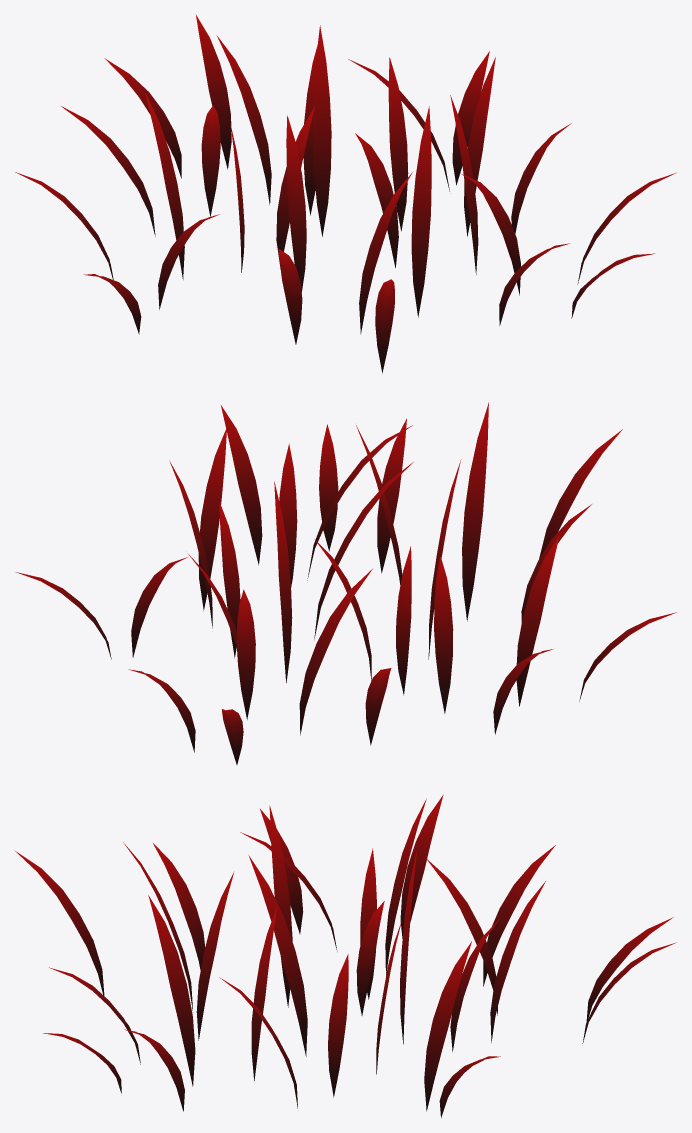
File: Grass.fbx
The picture shows the model from 3 angles, top to bottom: view 1: azimuth 30°, elevation 25°; view 2: azimuth 150°, elevation 25°; view 3: azimuth 270°, elevation 25°; orthographic projection. The views are drawn at different scales.
Parts seen in each view (by area): view 1: Grass; view 2: Grass; view 3: Grass.
Part boxes in pixels (box(x1,y1,x2,y2)): Grass: box(15, 15, 676, 373); Grass: box(15, 402, 676, 764); Grass: box(14, 794, 676, 1117).
Bounding box in the file's own units: 5.32 × 1.98 × 5.95.
